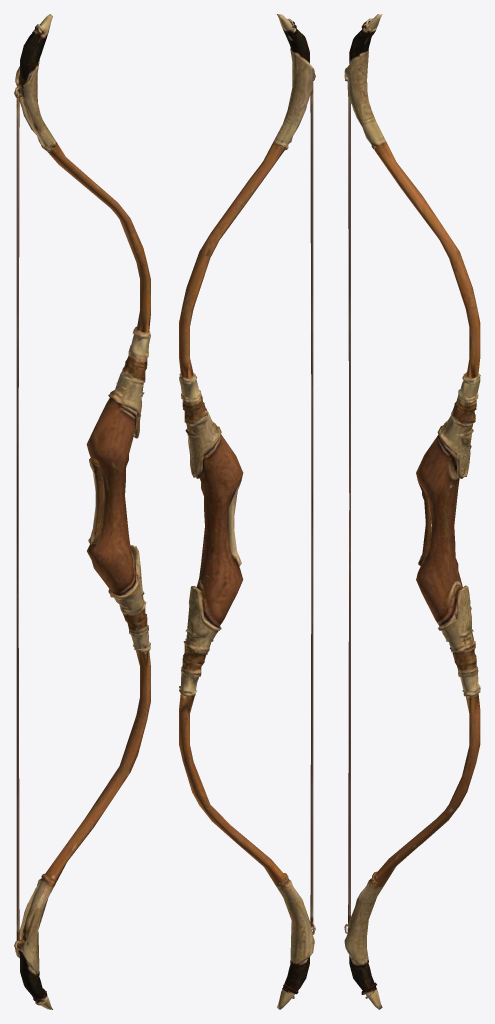
The model's file is cretan_bow.glb.
3 renders of one model, left to right at view 1: azimuth 30°, elevation 25°; view 2: azimuth 210°, elevation 25°; view 3: azimuth 330°, elevation 25°, orthographic.
Parts seen in each view (by area): view 1: cretan_bow; view 2: cretan_bow; view 3: cretan_bow.
Boxes of the visible parts, <box> form: cretan_bow: <box>14,14,150,1009</box>; cretan_bow: <box>179,14,315,1009</box>; cretan_bow: <box>344,14,480,1009</box>.
Size of the model in its own units: 0.1426 by 0.998 by 0.041.
Materials: 1 (1 with a texture image).
